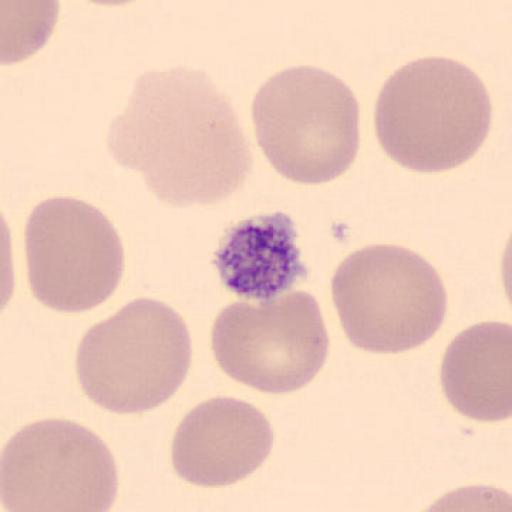Platelet: (214, 214, 315, 298)
RBC: (106, 65, 254, 207), (371, 55, 494, 175), (74, 296, 193, 416), (328, 241, 450, 357), (209, 280, 330, 396), (250, 64, 363, 186), (24, 194, 125, 314), (0, 416, 119, 510), (169, 394, 276, 490), (438, 318, 511, 424), (0, 0, 61, 66)
